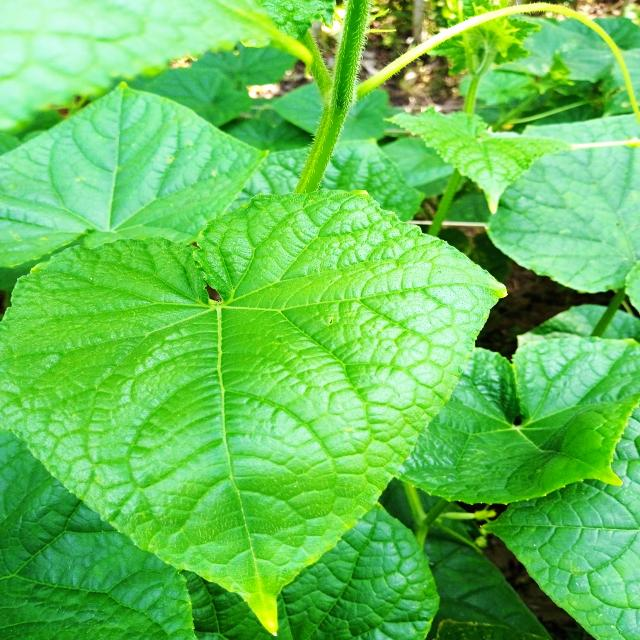Fresh-Leaf: (0, 187, 511, 634), (396, 333, 640, 505)
